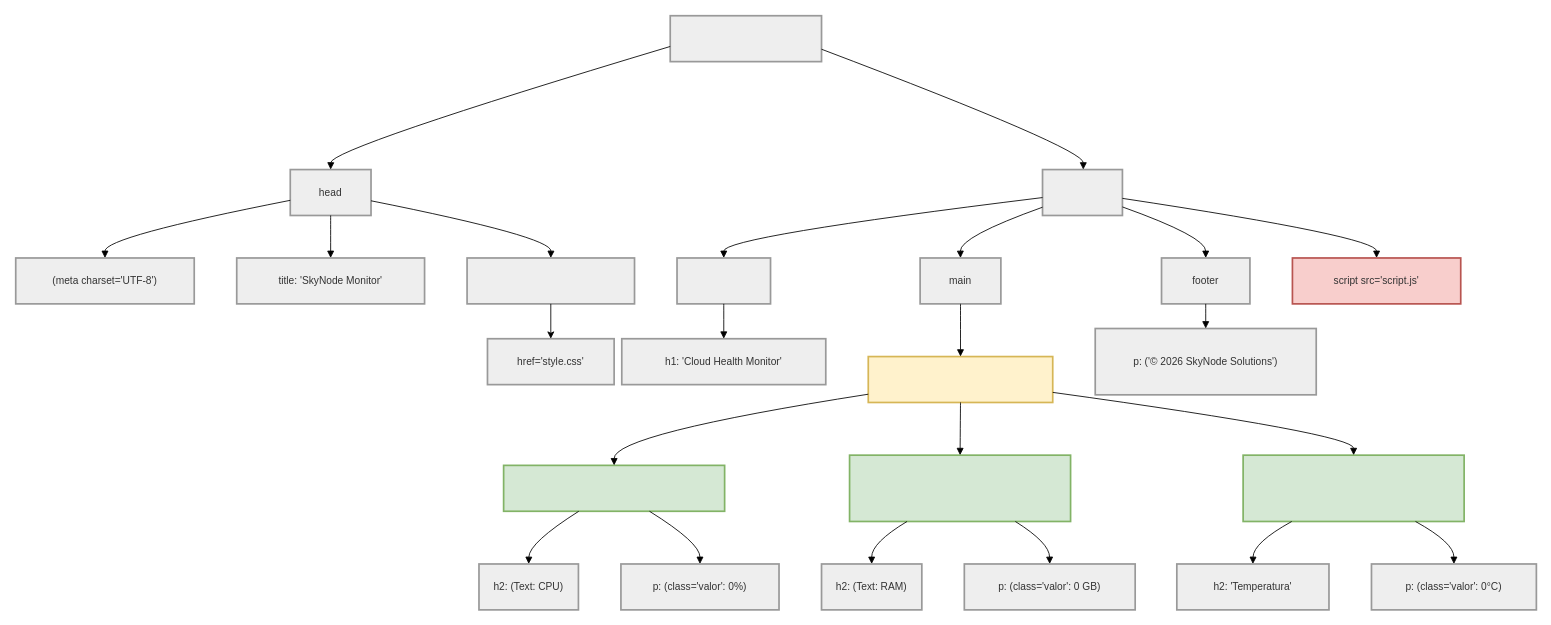
This 1551x625 diagram has some shape labels left out. The shapes that lost their labels are listed below. From the top down, each one's centre as x and y in pixels, then its label:
At point 745,38: "html (lang='pt-br')".
At point 1082,192: "body".
At point 550,280: "link: rel='stylesheet'".
At point 723,280: "header".
At point 960,379: "section (id='dashboard')".
At point 613,488: "div (id='card-cpu' class='card')".
At point 959,488: "div (id='card-ram'; class='card')".
At point 1353,488: "div (id='card-temp' class='card')".
